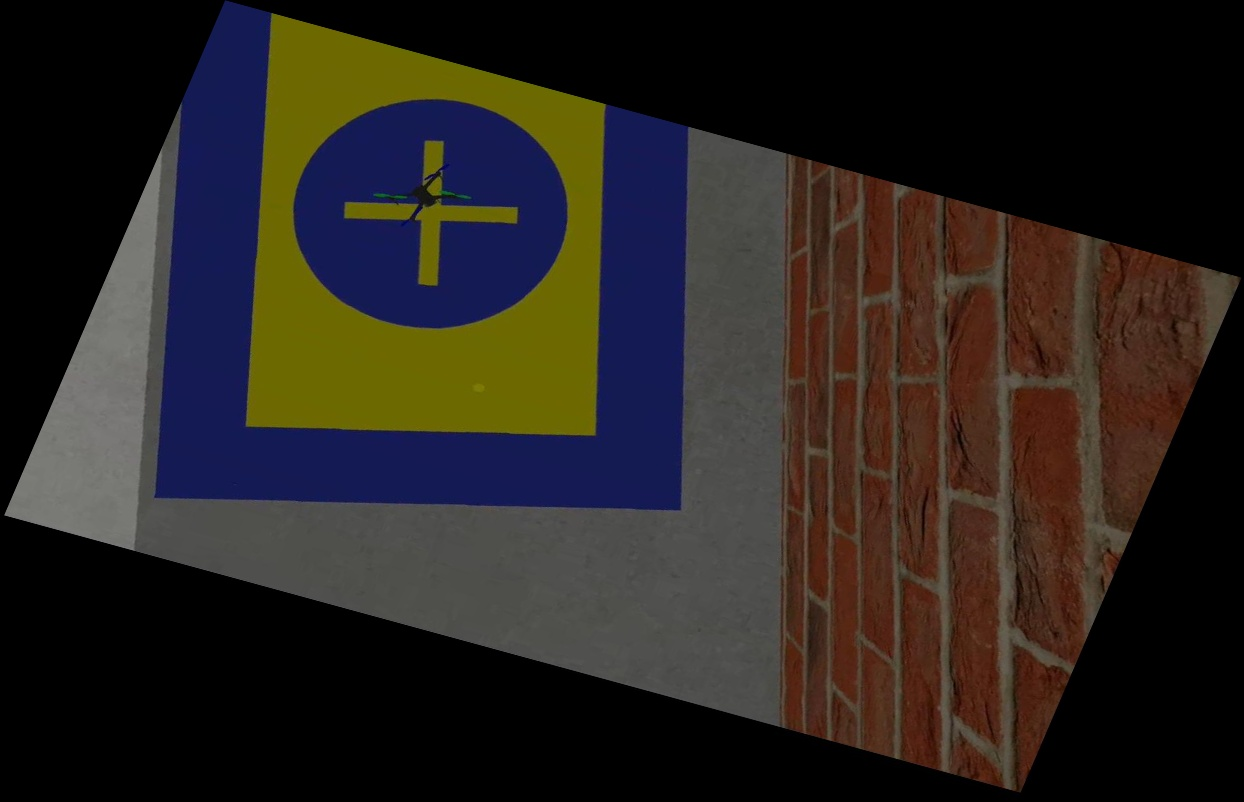large_base: (27, 0, 826, 626)
